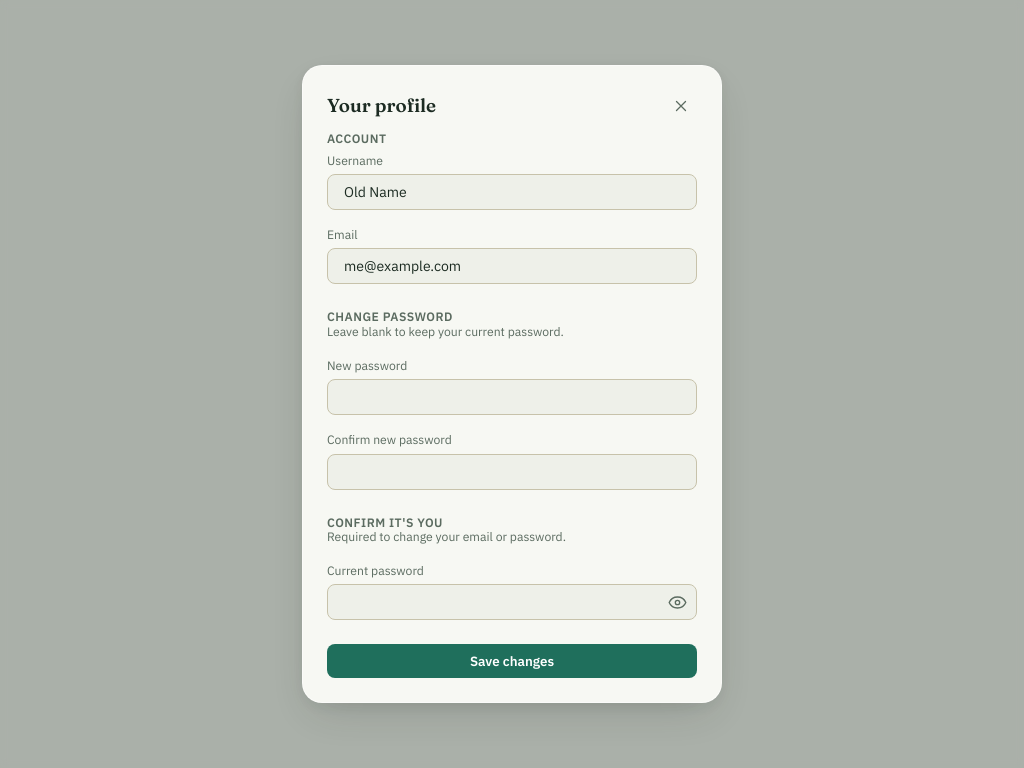
Scenario: ProfileModalComponent › requires the current password to change the email
The image size is (1024, 768).
Replace the text in the field labelled "Email" with "new@example.com": (512, 266) [327,248,697,284]
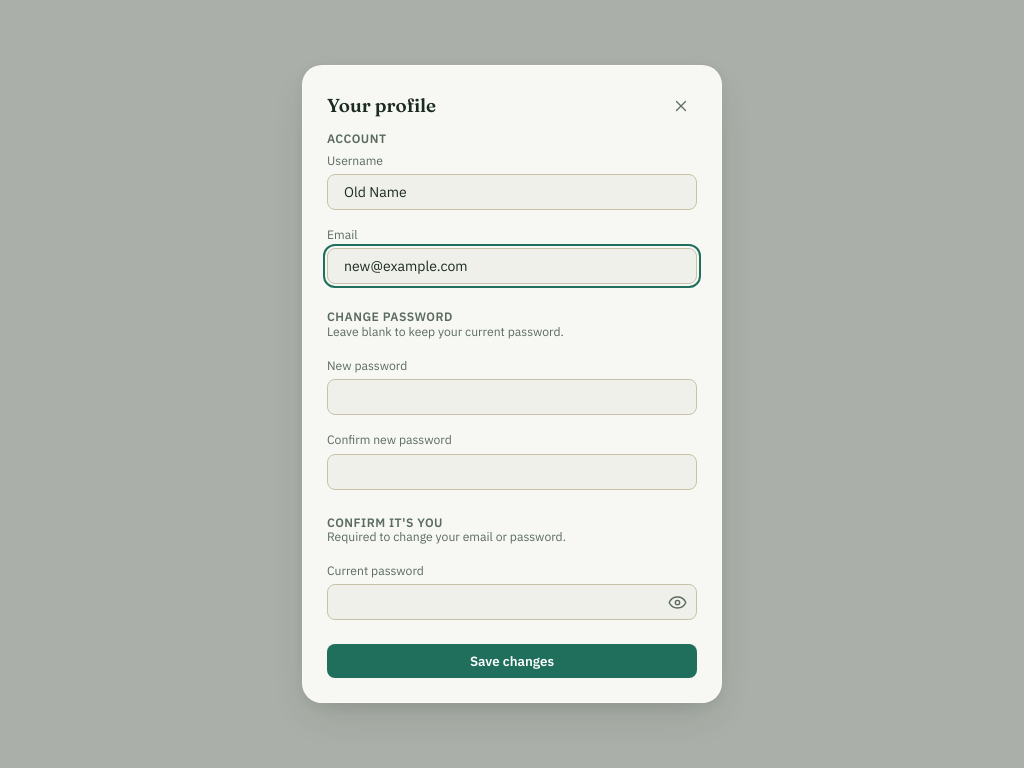
Click the button "Save changes": (512, 661) [327,644,697,678]
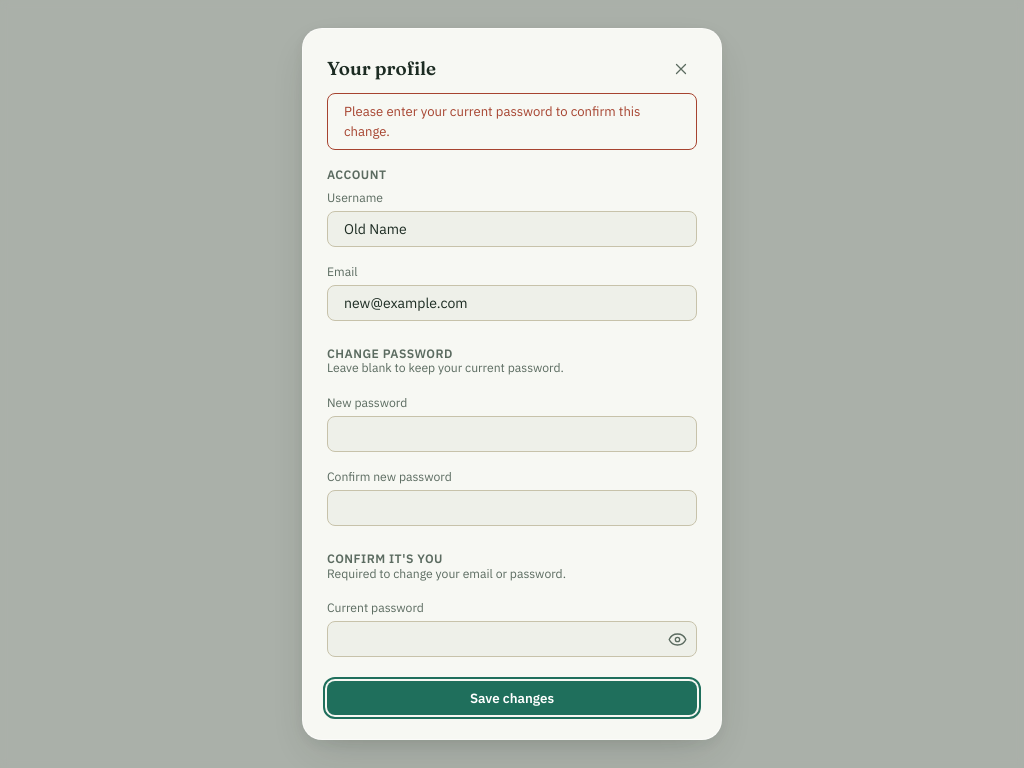
Now the message shows "current password", box [344,103,640,140]
